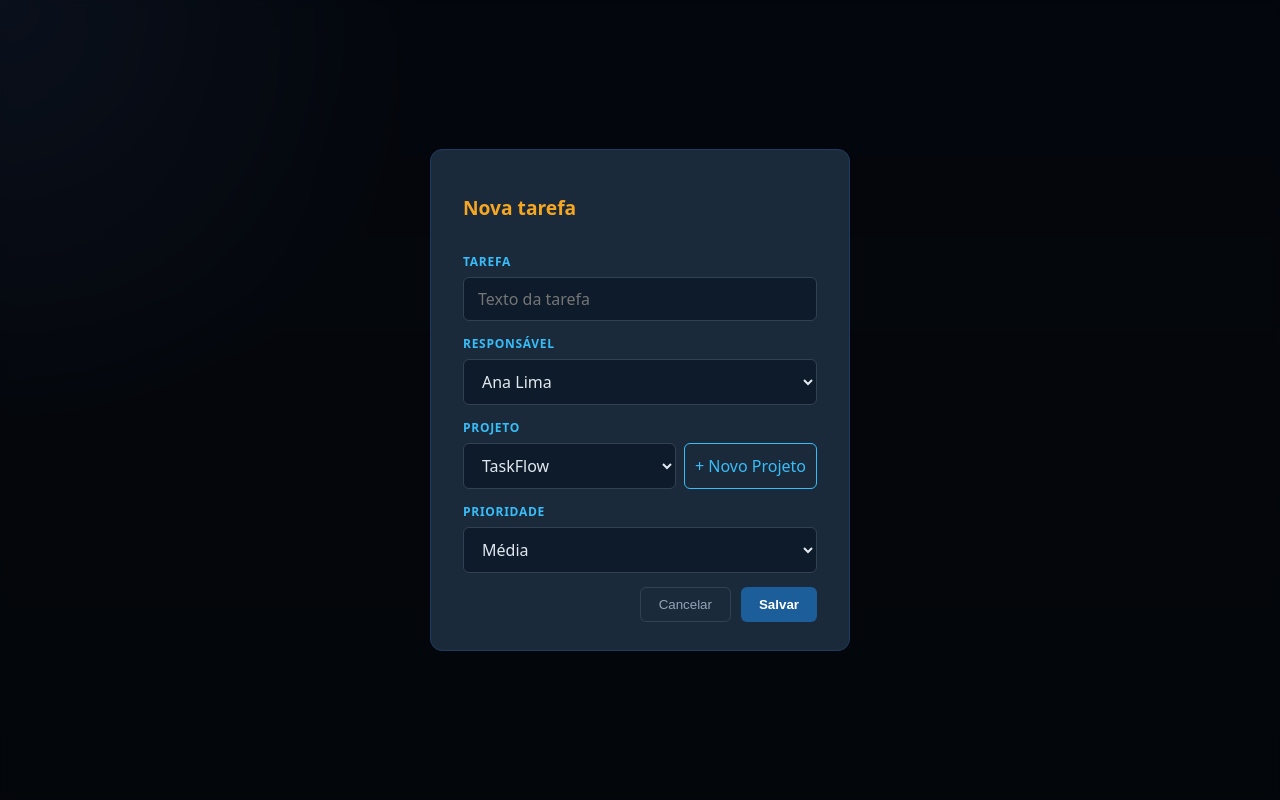
Test: ModalTarefa › mantém o modal aberto e mostra o erro retornado ao salvar
Type "Tarefa inválida" into the field labelled "Tarefa" at (640, 299), box [463,277,817,321]
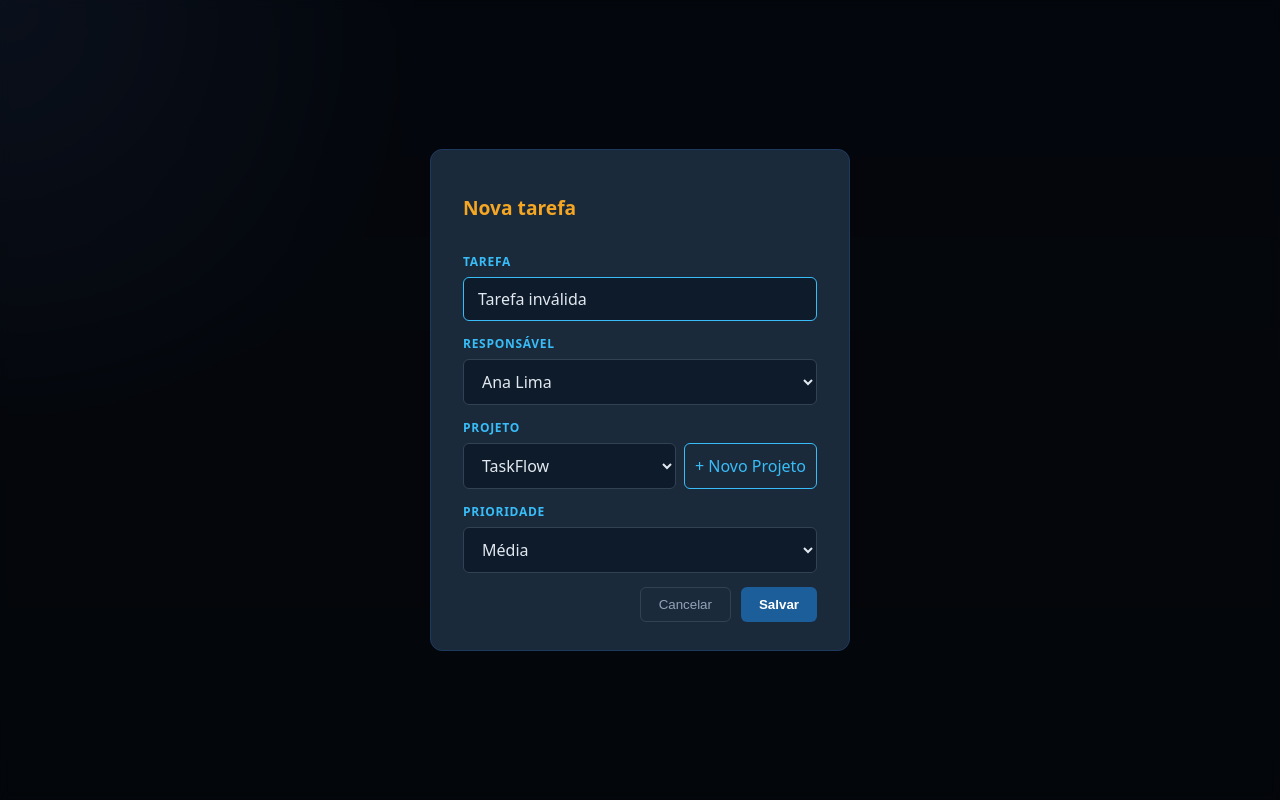
Click the button "Salvar" at (779, 604), box [741,587,817,622]
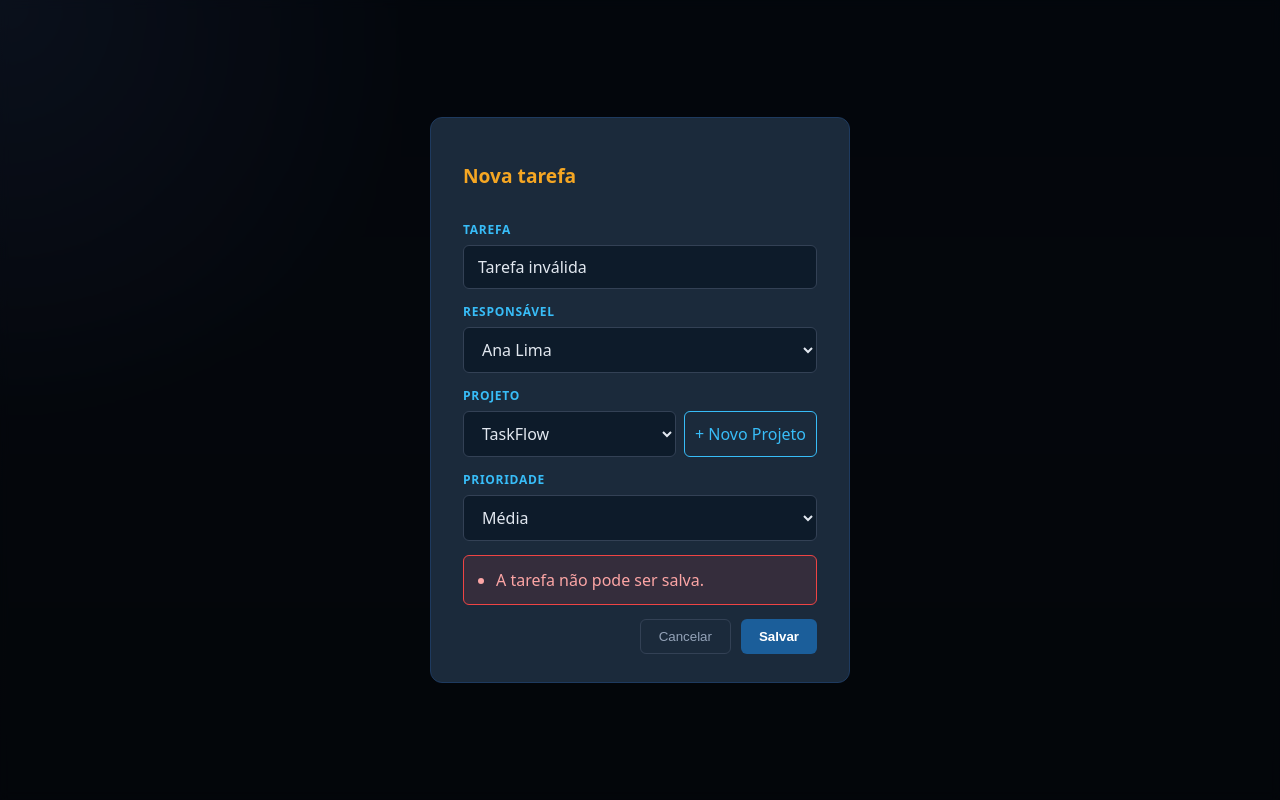
Expected: the list item "A tarefa não pode ser salva." is shown, [496,569,704,591]
